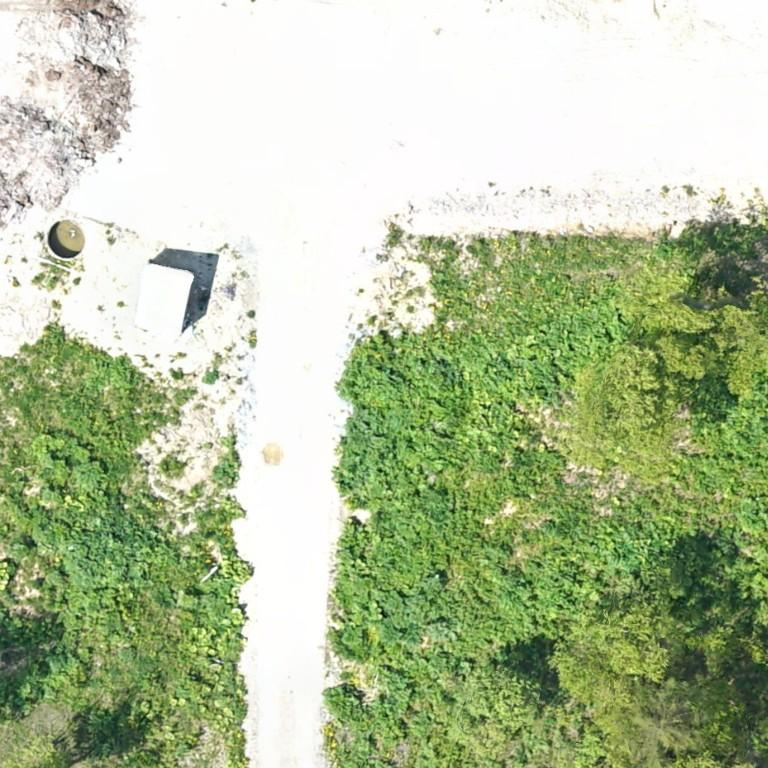hogweed: (327, 283, 767, 767), (2, 433, 181, 638), (0, 654, 81, 718)
